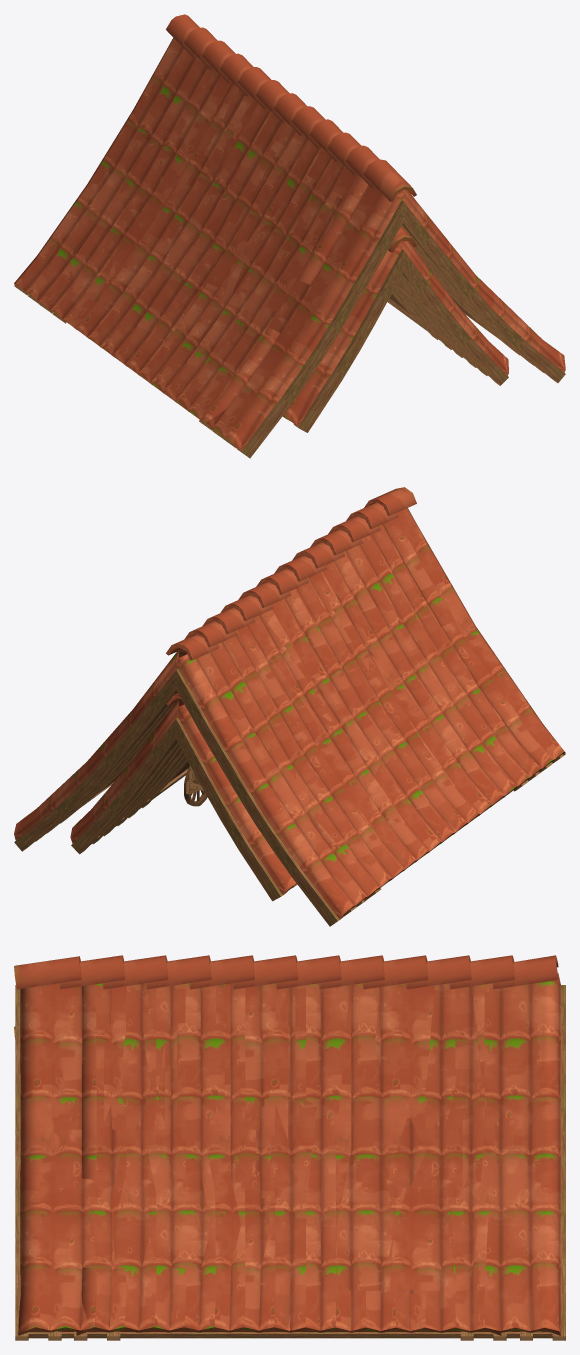
The model's file is village-kit.glb.
3 views of the same model, one above another, from view 1: azimuth 30°, elevation 25°; view 2: azimuth 150°, elevation 25°; view 3: azimuth 270°, elevation 25° (orthographic). The views are drawn at different scales.
Visible parts, largest first — view 1: Roof_RoundTiles_6x8, Roof_RoundTiles_6x6, Roof_RoundTiles_4x8, Roof_RoundTiles_4x6; view 2: Roof_RoundTiles_6x8, Roof_RoundTiles_6x6, Roof_RoundTiles_4x8, Roof_RoundTiles_4x6, Prop_Wagon; view 3: Roof_RoundTiles_6x8, Roof_RoundTiles_6x6.
Part boxes in pixels (bbox=[...]): Roof_RoundTiles_6x8: bbox=[14, 14, 565, 458]; Roof_RoundTiles_6x6: bbox=[39, 27, 533, 438]; Roof_RoundTiles_4x8: bbox=[282, 226, 508, 432]; Roof_RoundTiles_4x6: bbox=[387, 278, 476, 367]; Roof_RoundTiles_6x8: bbox=[14, 487, 565, 926]; Roof_RoundTiles_6x6: bbox=[46, 502, 541, 906]; Roof_RoundTiles_4x8: bbox=[70, 693, 297, 901]; Roof_RoundTiles_4x6: bbox=[103, 746, 189, 836]; Prop_Wagon: bbox=[184, 765, 207, 806]; Roof_RoundTiles_6x8: bbox=[14, 955, 565, 1340]; Roof_RoundTiles_6x6: bbox=[59, 955, 514, 1340].
Bounding box in the file's own units: 8.25 × 5.67 × 9.68.
Materials: 7 (6 with a texture image).
